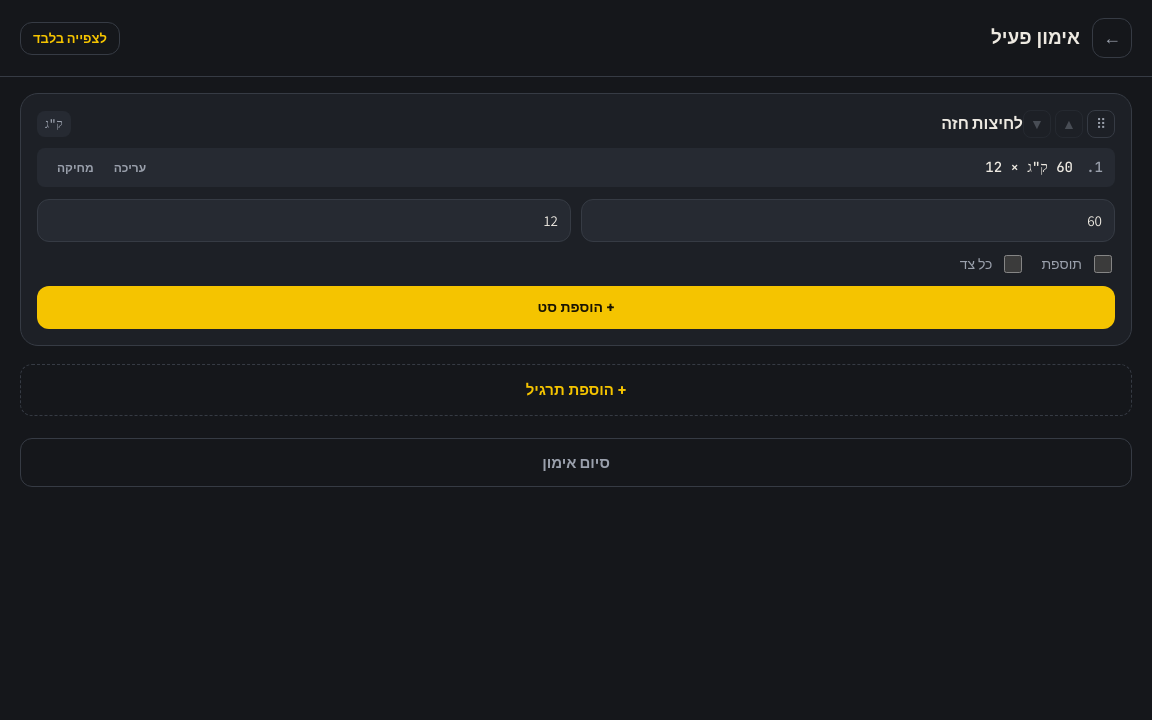
Test: WorkoutPage › adds a new set through the form
Expected: the text "60 ק\"ג × 12" is shown, top-left (985, 158), bottom-right (1073, 176)
Replace the text in the 2nd number field with placeholder "משקל" with "65": (848, 220) top-left (581, 199), bottom-right (1115, 242)
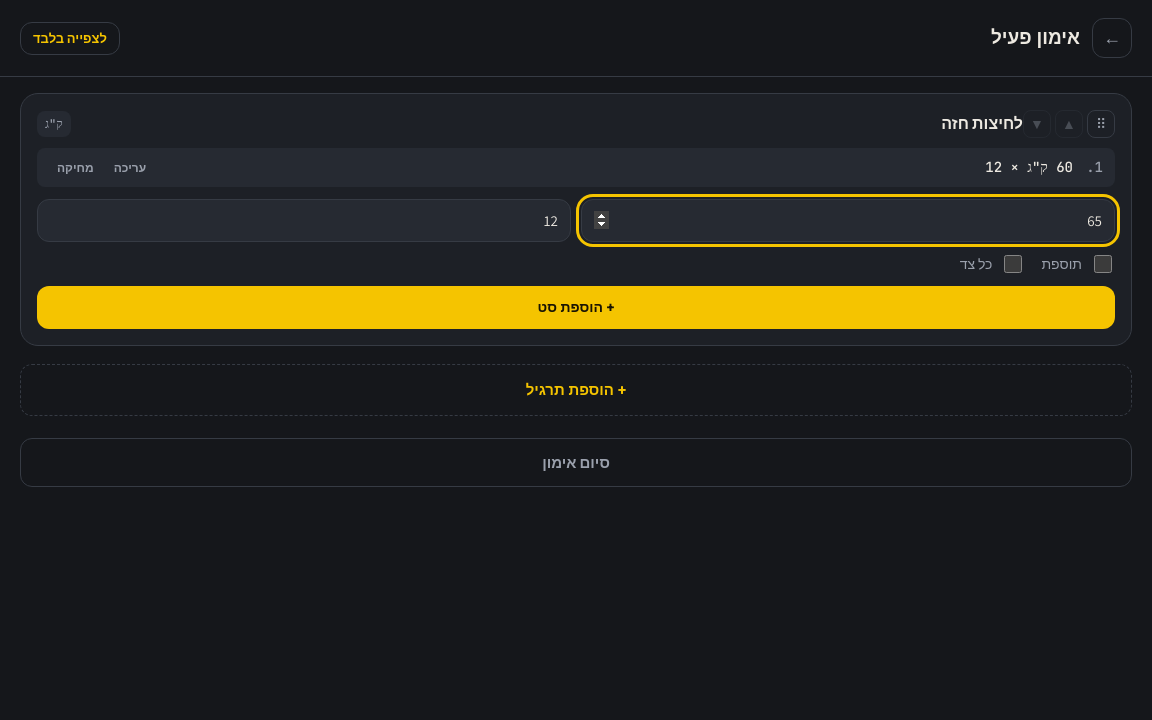
Replace the text in the 1st number field with placeholder "חזרות" with "8": (304, 220) top-left (37, 199), bottom-right (571, 242)
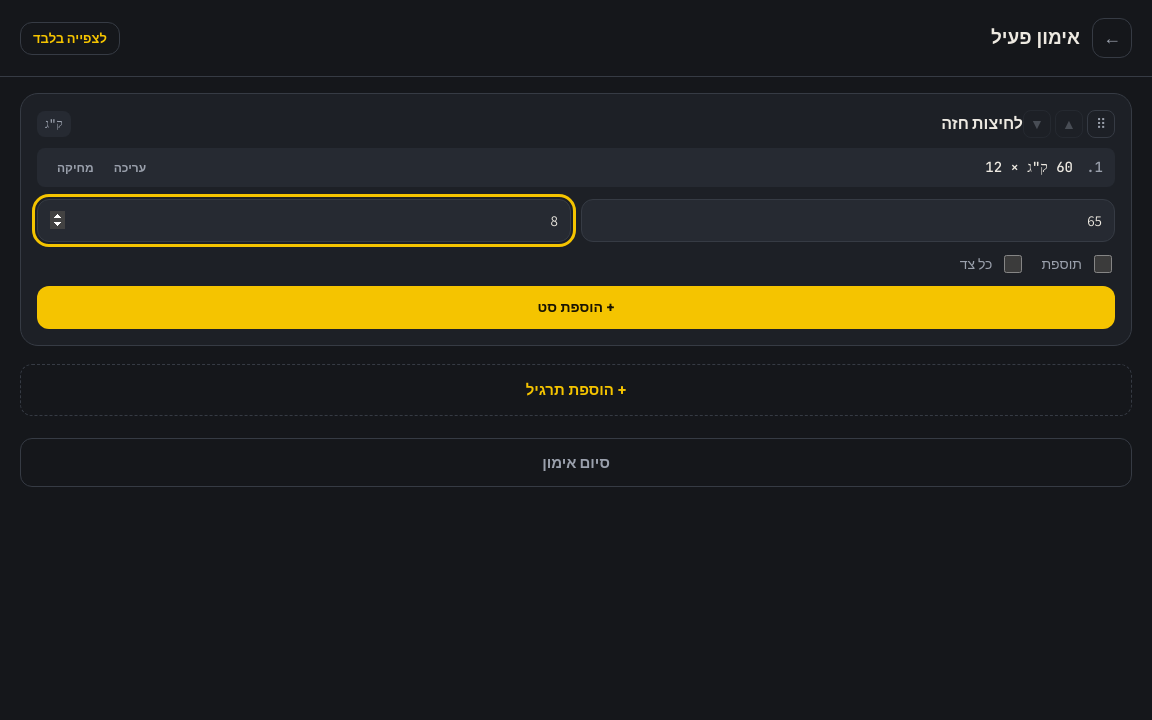
Click the button "+ הוספת סט": (576, 308) top-left (37, 286), bottom-right (1115, 329)
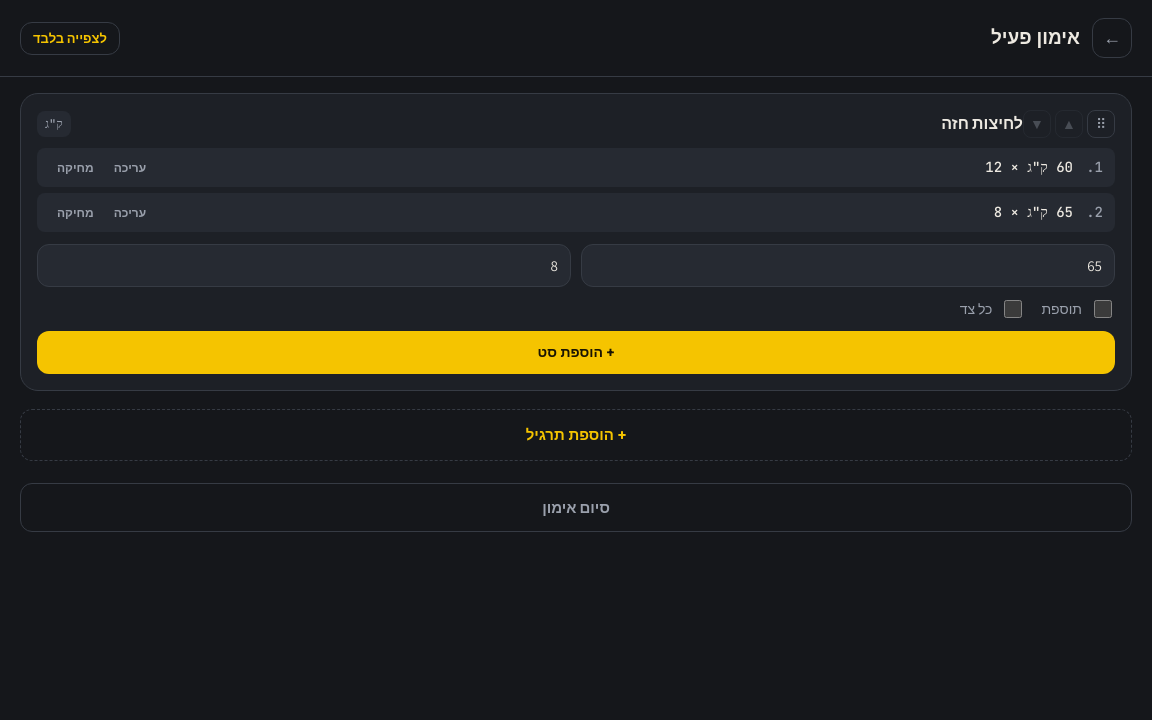
Expected: the text "65 ק\"ג × 8" is shown, top-left (994, 203), bottom-right (1073, 221)
